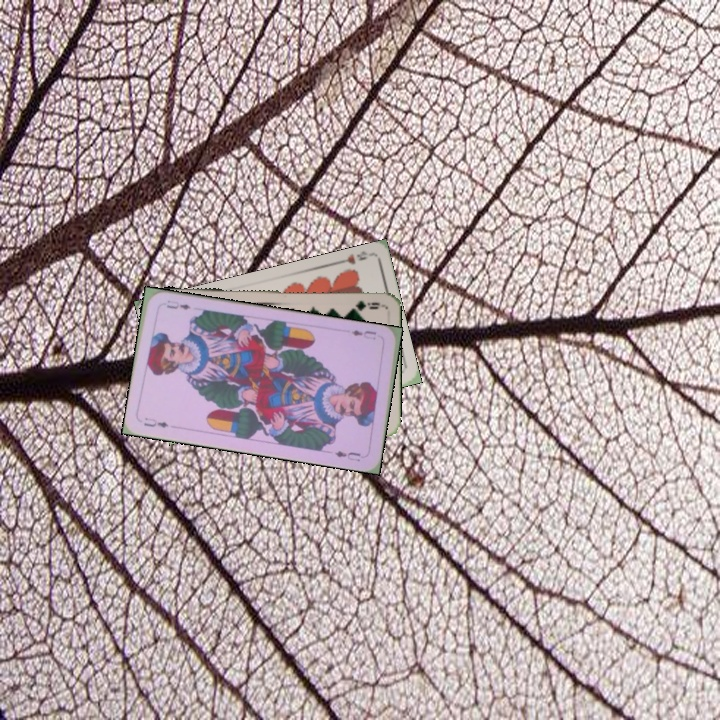EU: (347, 325, 378, 342), (140, 414, 171, 430)
G9: (347, 297, 384, 311)
H9: (333, 247, 370, 267)
